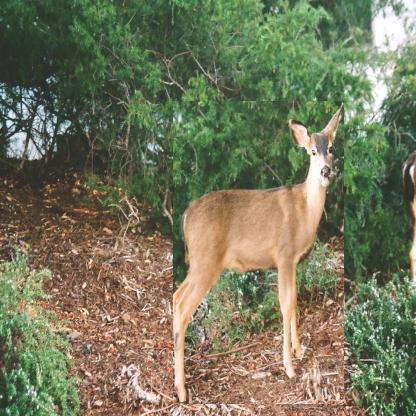Deer: (173, 101, 344, 404)
